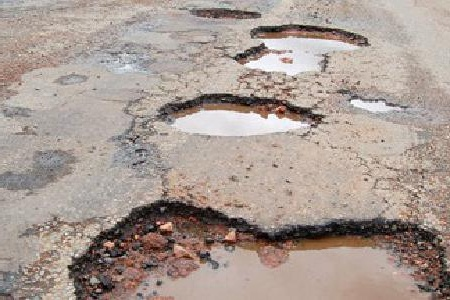pothole: (66, 196, 449, 299), (153, 90, 328, 136), (231, 21, 370, 74), (347, 94, 407, 112), (187, 7, 263, 21)
